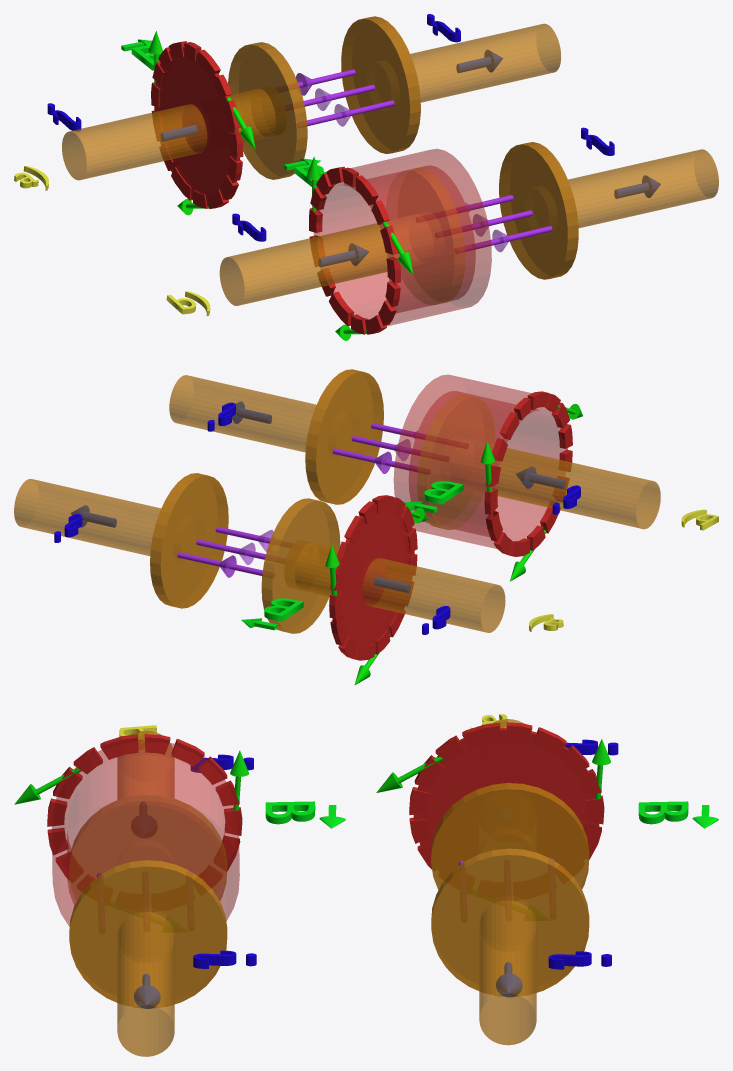
Rendered from modelo-capacitor.dae.
3 renders of one model, top to bottom at view 1: azimuth 30°, elevation 25°; view 2: azimuth 150°, elevation 25°; view 3: azimuth 270°, elevation 25°, orthographic. The views are drawn at different scales.
Visible parts, largest first — view 1: Cilindro.002, Cilindro.036, Cilindro, Cilindro.023, Cilindro.014, Cilindro.013, Cilindro.024, Cilindro.003, Cilindro.001, Cilindro.035, Cilindro.012, Cilindro.034 (+5 smaller); view 2: Cilindro.002, Cilindro.036, Cilindro, Cilindro.014, Cilindro.023, Cilindro.024, Cilindro.013, Cilindro.003, Cilindro.001, Cilindro.012, Cilindro.035, Cilindro.034 (+6 smaller); view 3: Cilindro.002, Cilindro.014, Cilindro.023, Cilindro.024, Cilindro.013, Cilindro.003, Cilindro.034, Cilindro.001, Cilindro.035, Cilindro.012, Cilindro.027, Cilindro.010 (+6 smaller).
Boxes of the visible parts, x1=… form: Cilindro.002: x1=313, y1=149, x2=491, y2=326; Cilindro.036: x1=219, y1=214, x2=433, y2=305; Cilindro: x1=62, y1=86, x2=285, y2=180; Cilindro.023: x1=499, y1=142, x2=578, y2=279; Cilindro.014: x1=341, y1=16, x2=420, y2=153; Cilindro.013: x1=341, y1=16, x2=420, y2=153; Cilindro.024: x1=499, y1=142, x2=578, y2=279; Cilindro.003: x1=228, y1=42, x2=307, y2=179; Cilindro.001: x1=367, y1=23, x2=561, y2=110; Cilindro.035: x1=525, y1=149, x2=718, y2=235; Cilindro.012: x1=154, y1=47, x2=239, y2=206; Cilindro.034: x1=386, y1=168, x2=464, y2=304; Cilindro.002: x1=393, y1=374, x2=567, y2=548; Cilindro.036: x1=450, y1=439, x2=660, y2=529; Cilindro: x1=285, y1=540, x2=505, y2=632; Cilindro.014: x1=150, y1=473, x2=228, y2=608; Cilindro.023: x1=305, y1=369, x2=383, y2=504; Cilindro.024: x1=305, y1=369, x2=383, y2=504; Cilindro.013: x1=150, y1=473, x2=228, y2=608; Cilindro.003: x1=261, y1=498, x2=340, y2=633; Cilindro.001: x1=14, y1=479, x2=204, y2=564; Cilindro.012: x1=332, y1=501, x2=414, y2=656; Cilindro.035: x1=169, y1=375, x2=360, y2=460; Cilindro.034: x1=417, y1=395, x2=495, y2=529; Cilindro.002: x1=51, y1=739, x2=239, y2=926; Cilindro.014: x1=431, y1=848, x2=589, y2=992; Cilindro.023: x1=69, y1=860, x2=227, y2=1003; Cilindro.024: x1=69, y1=860, x2=226, y2=1003; Cilindro.013: x1=431, y1=849, x2=588, y2=992; Cilindro.003: x1=431, y1=783, x2=589, y2=889; Cilindro.034: x1=69, y1=795, x2=227, y2=901; Cilindro.001: x1=479, y1=896, x2=536, y2=1045; Cilindro.035: x1=117, y1=907, x2=174, y2=1056; Cilindro.012: x1=413, y1=728, x2=599, y2=847; Cilindro.027: x1=47, y1=734, x2=242, y2=880; Cilindro.010: x1=409, y1=722, x2=604, y2=869.
Size of the model in its own units: 13.03 by 12.92 by 4.23.
